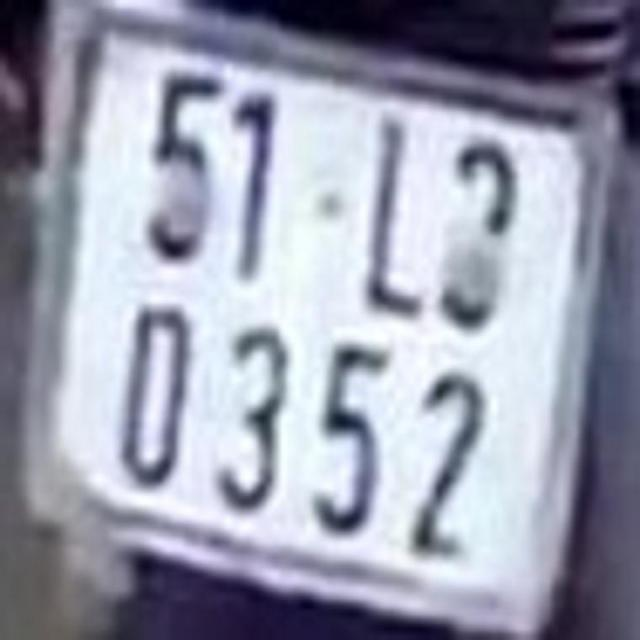1: (230, 90, 278, 273)
2: (414, 372, 485, 554)
3: (443, 138, 516, 336), (218, 324, 281, 511)
5: (148, 68, 224, 262), (312, 343, 388, 528)
D: (113, 304, 188, 488)
L: (366, 110, 427, 316)
